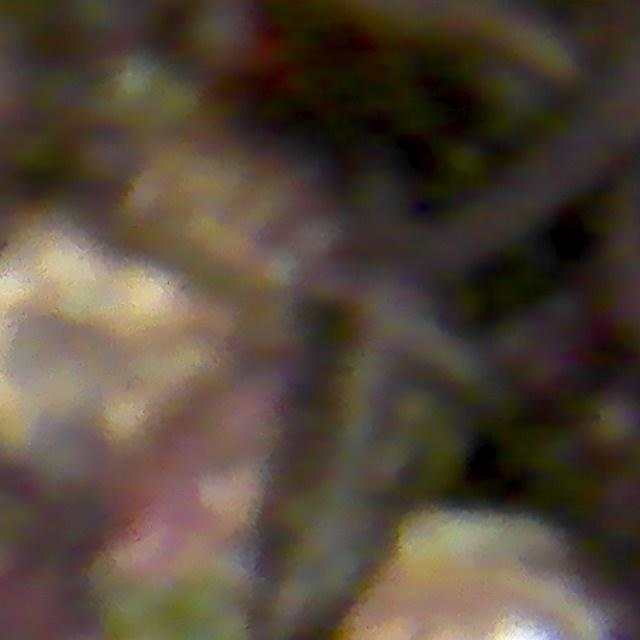SeaGrape: (187, 5, 259, 76), (73, 129, 138, 192)
